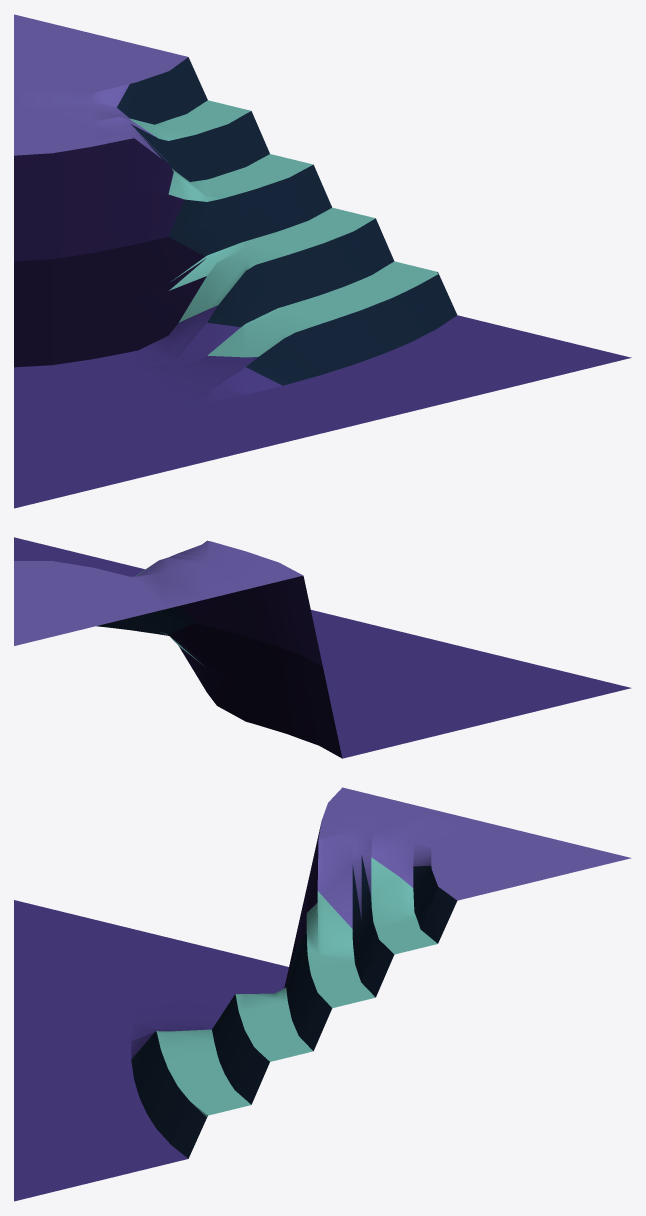
The model's file is MODULE_ALIEN_MIX_CORNER_A_2.fbx.
3 renders of one model, top to bottom at view 1: azimuth 30°, elevation 25°; view 2: azimuth 150°, elevation 25°; view 3: azimuth 270°, elevation 25°, orthographic.
Parts seen in each view (by area): view 1: MODULE_ALIEN_MIX_CORNER_A_2__export; view 2: MODULE_ALIEN_MIX_CORNER_A_2__export; view 3: MODULE_ALIEN_MIX_CORNER_A_2__export.
Part boxes in pixels (x1,y1,x2,y2): MODULE_ALIEN_MIX_CORNER_A_2__export: (14, 14, 631, 508); MODULE_ALIEN_MIX_CORNER_A_2__export: (14, 537, 631, 758); MODULE_ALIEN_MIX_CORNER_A_2__export: (14, 787, 631, 1201).
Bounding box in the file's own units: 100 × 29.78 × 86.6.
